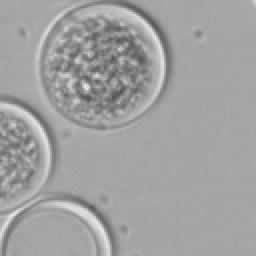picoshell: (36, 0, 168, 128), (0, 96, 54, 212), (0, 198, 110, 254)
